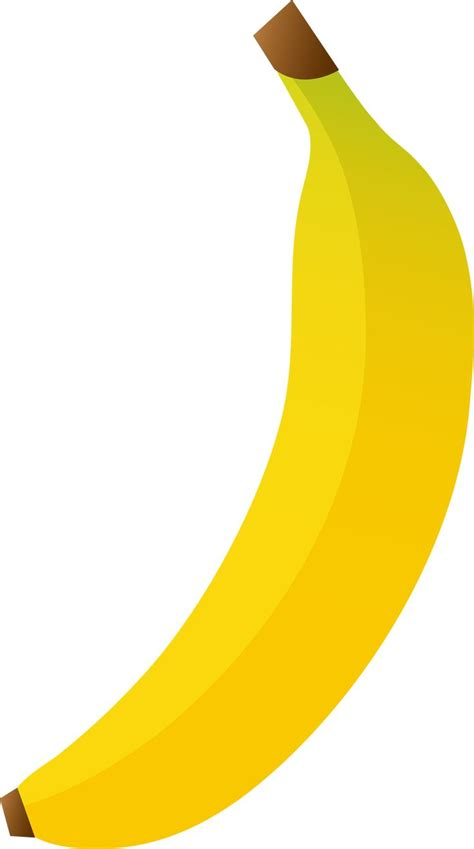banana: (4, 129, 474, 845)
